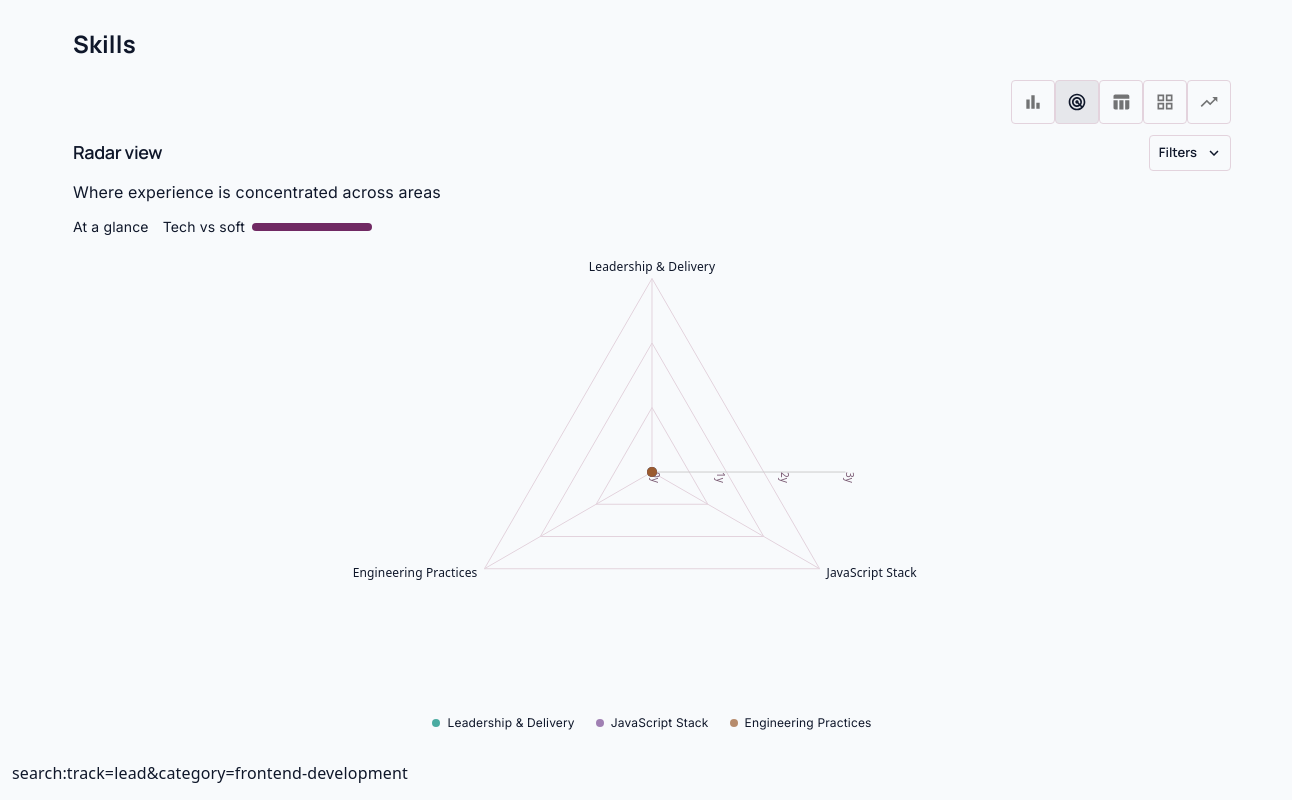
Test case: Skills › track URL sync › drops a category param that is not part of the active track
The image size is (1292, 800).
Click the button "Filters" at (1190, 153), box [1149,135,1231,171]
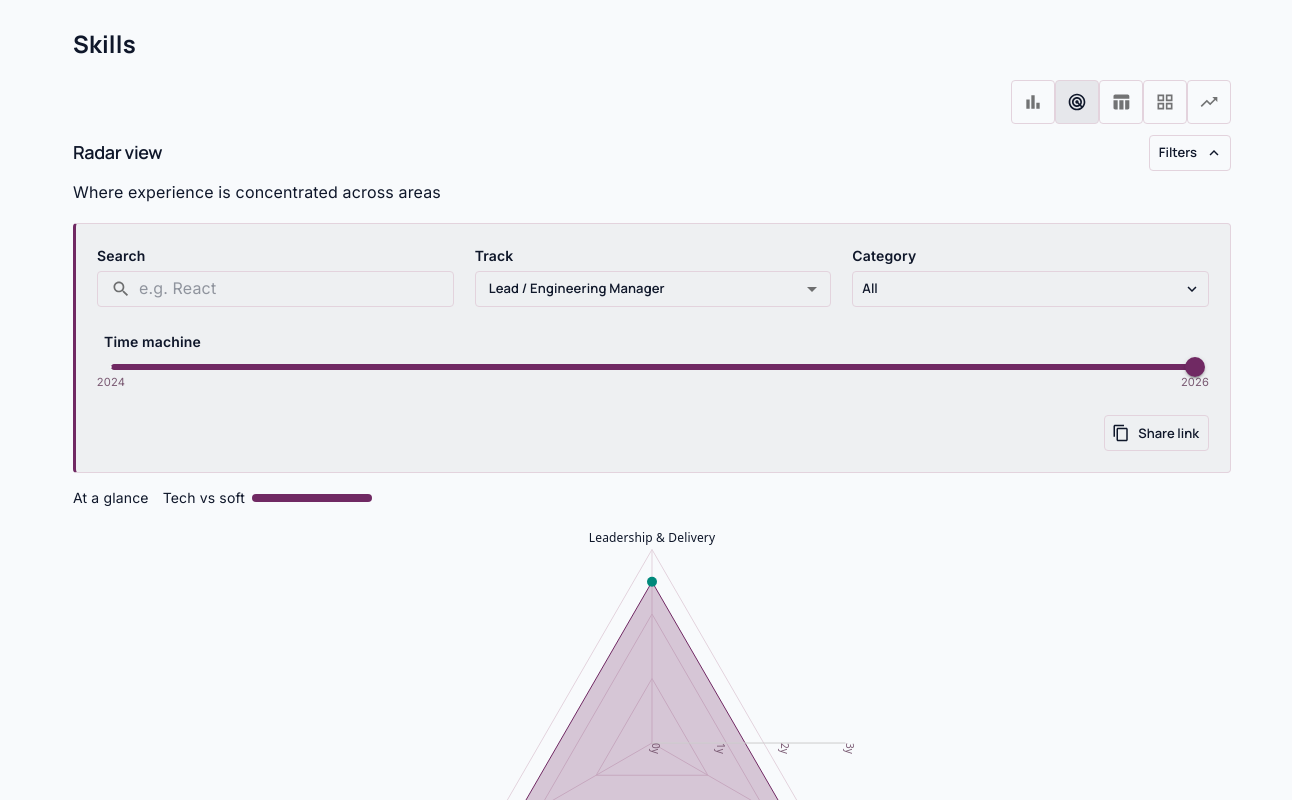
Expected: the button with aria-label "Filter skills by category, currently: All" is shown, [852,271,1209,307]
